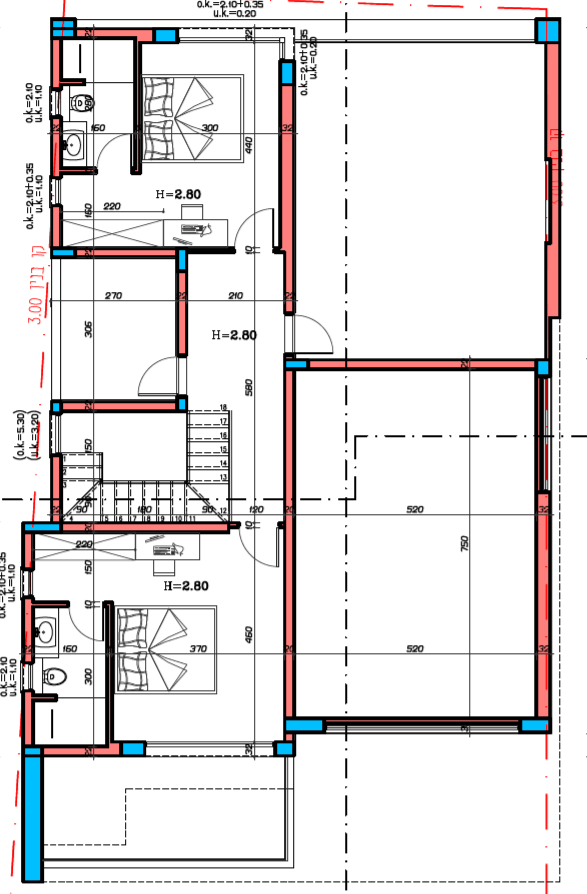door: (129, 353, 174, 397), (234, 528, 279, 572), (299, 315, 340, 353)
wall: (22, 756, 40, 882), (306, 357, 467, 368)
